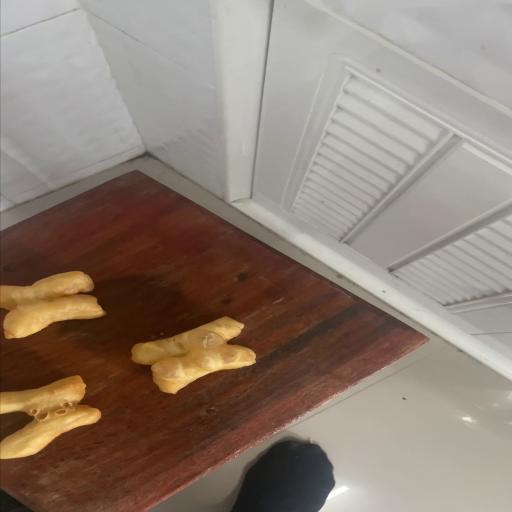street_golden_defect: (130, 317, 256, 393), (0, 376, 99, 458)
street_golden_good: (4, 272, 105, 339)
